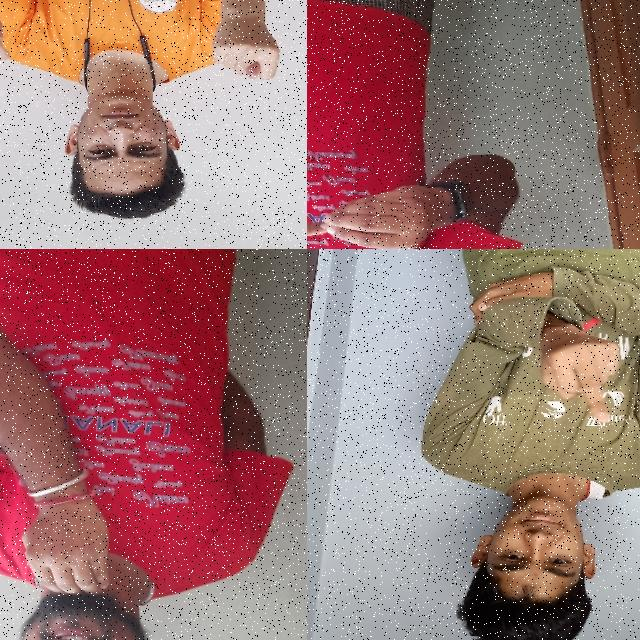Chin Flick: (0, 487, 165, 640)
Dulya: (204, 0, 291, 93)
Five Fathers: (307, 161, 440, 249)
Middle Finger: (534, 320, 630, 434)
